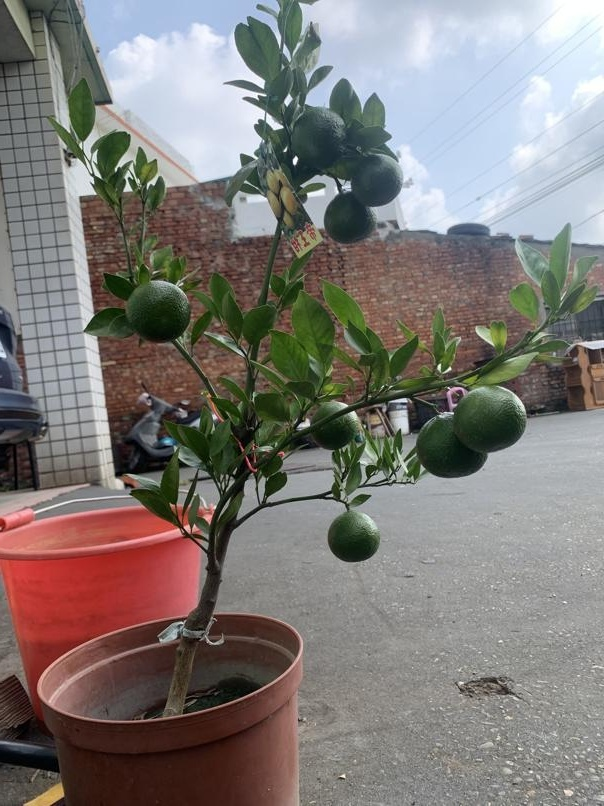Tangerine: (452, 379, 528, 451), (416, 409, 489, 479), (121, 276, 191, 342), (323, 505, 382, 566), (323, 188, 376, 244), (353, 151, 404, 207)
